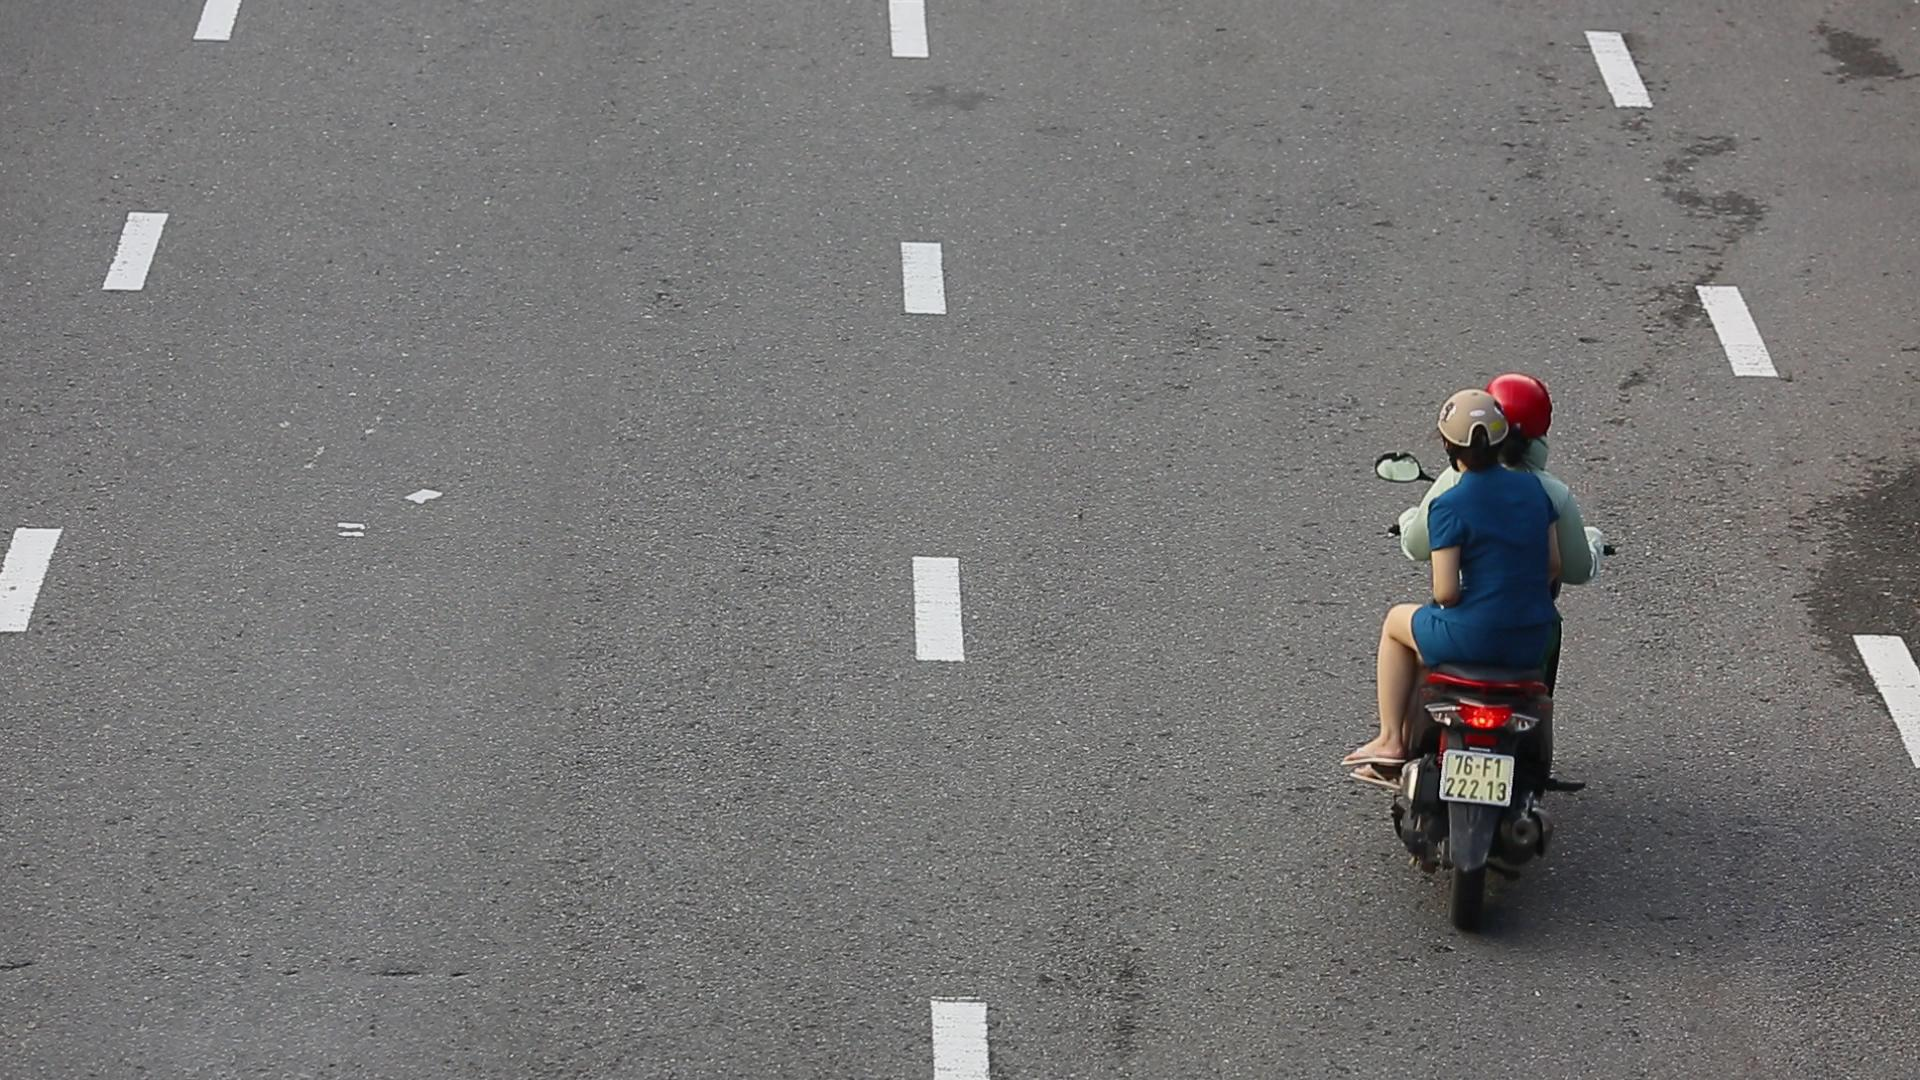motobike: (1323, 368, 1610, 930)
